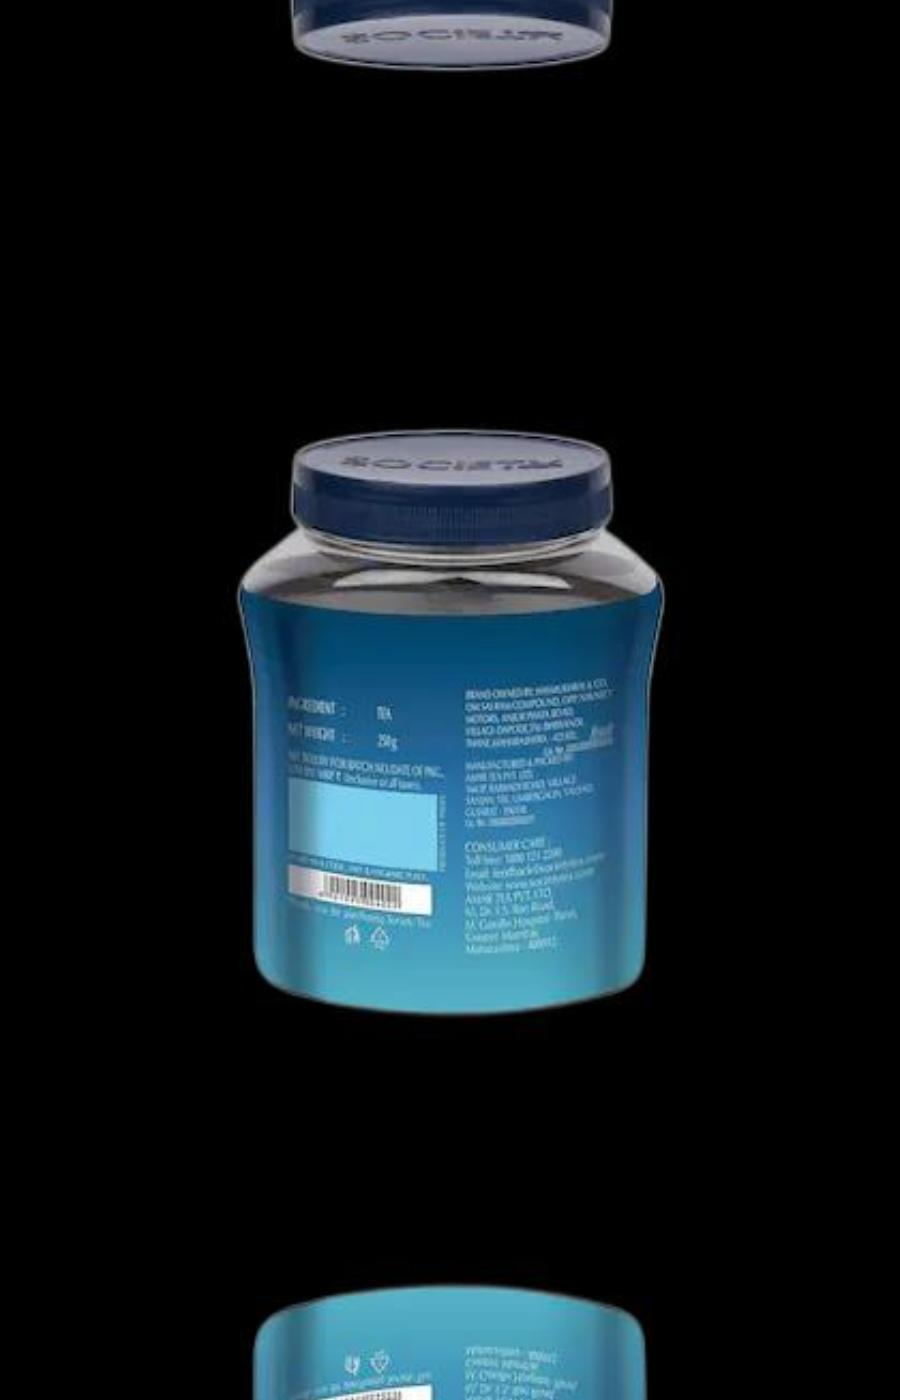Society Leaf Tea 250g Jar: (236, 427, 670, 1019), (236, 1280, 670, 1400)
